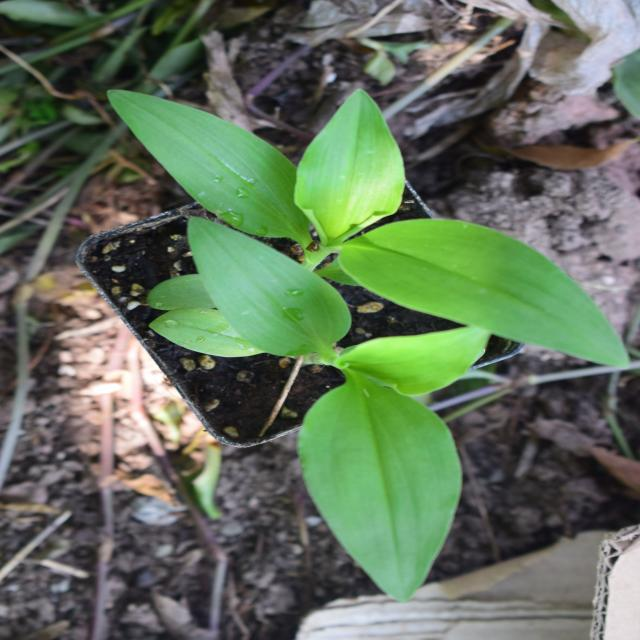Common Dayflower: (82, 94, 575, 590)
